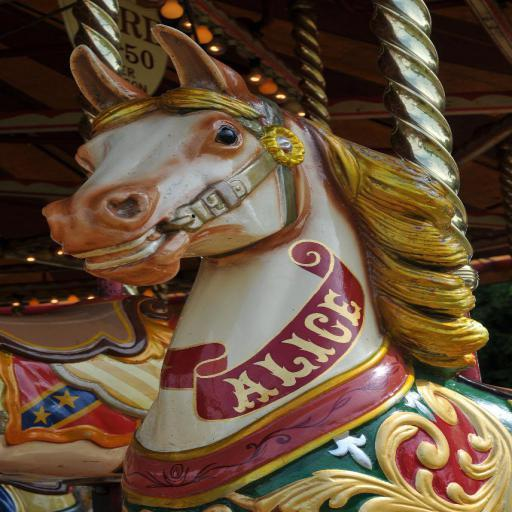horse: (38, 21, 512, 512), (0, 306, 178, 479)
